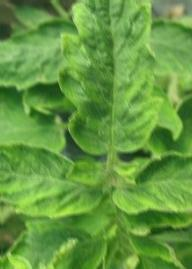Tomato leaf yellow virus: (64, 0, 162, 160), (0, 141, 102, 227), (0, 12, 96, 90), (111, 153, 192, 224), (143, 16, 192, 95)
